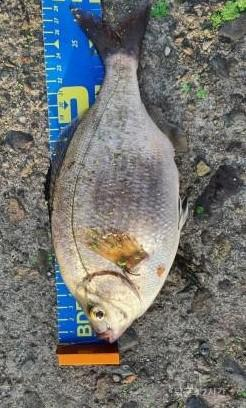fish: (50, 0, 185, 345)
